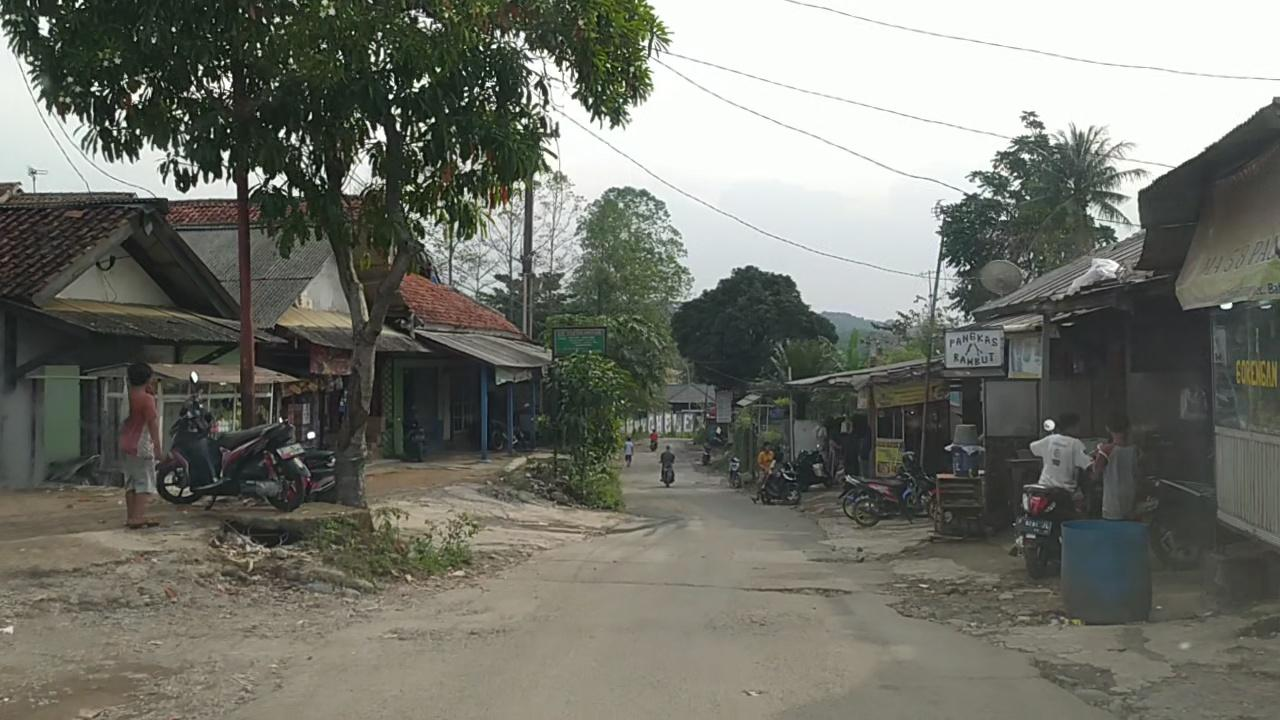pothole: (759, 585, 849, 596)
